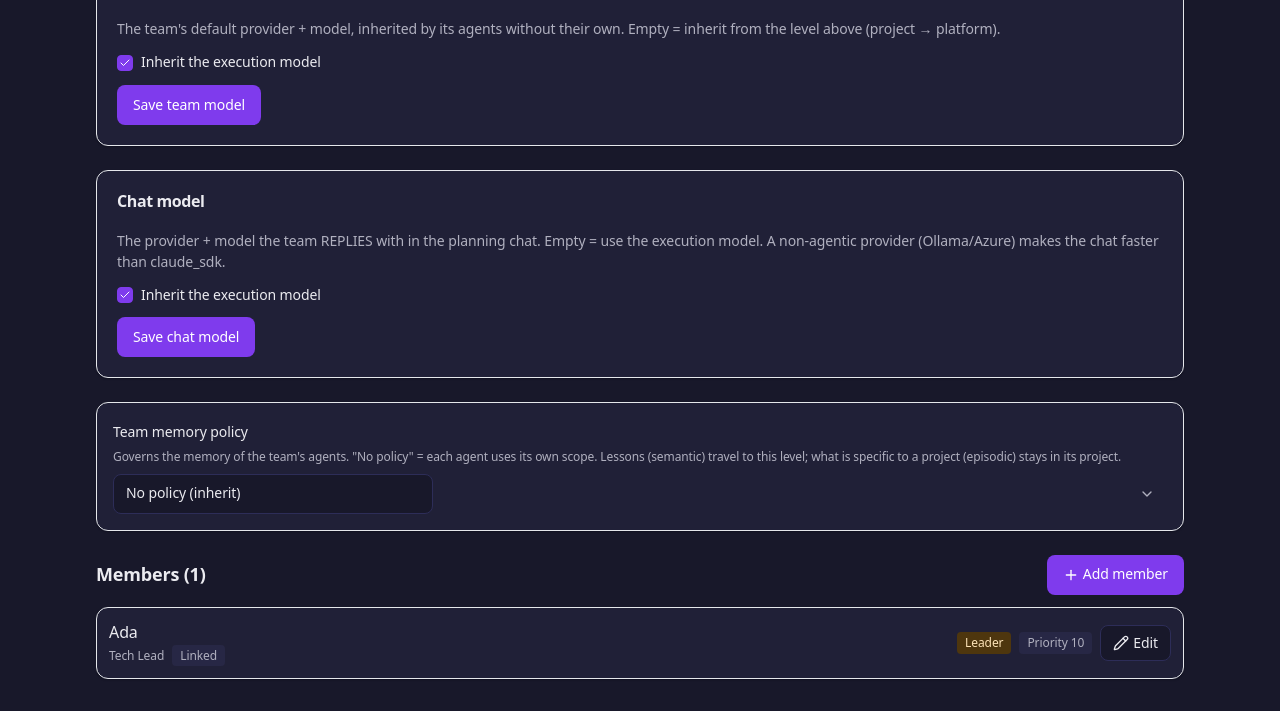
it: detalle del equipo › el diálogo de alta de miembro se traduce, incluidos los dos modos
(page scrolled)
Click the button with test id "add-member-button" at (1115, 575), box left=1047, top=555, right=1184, bottom=595
(page scrolled)
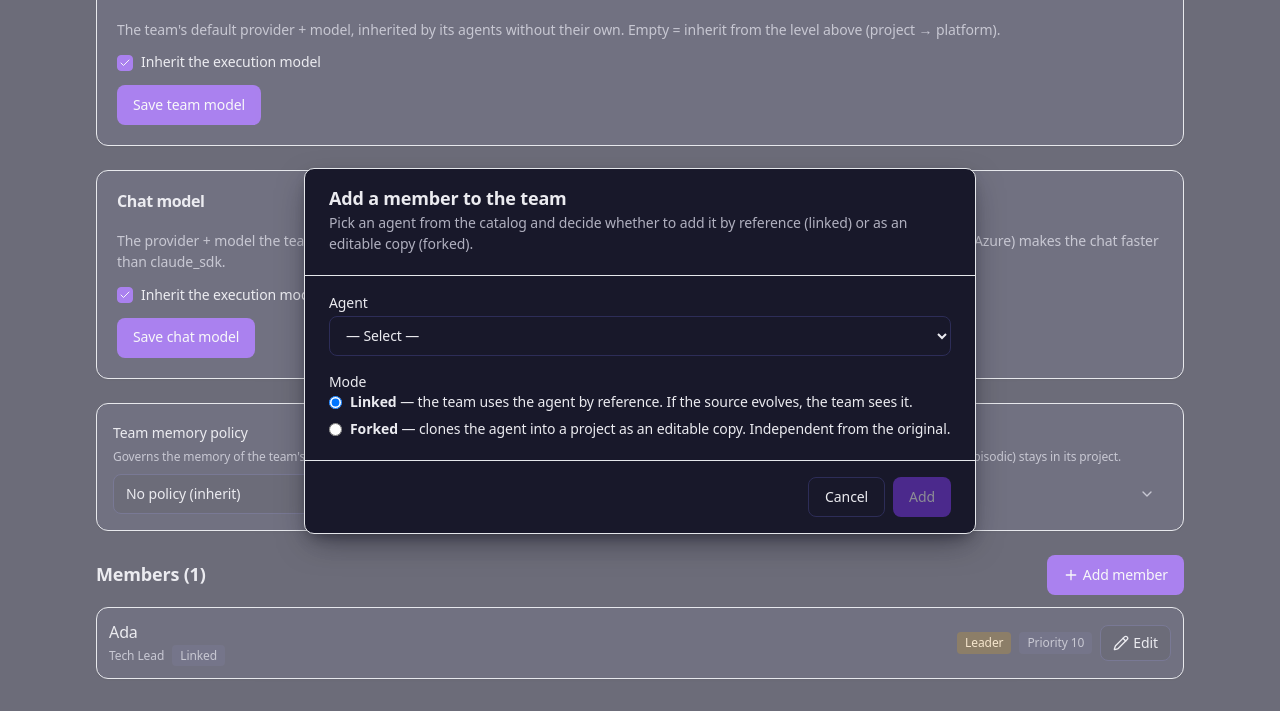
Now the heading "Add a member to the team" is shown, box left=329, top=186, right=567, bottom=210
Now the dropdown labelled "Agent" is shown, box left=329, top=316, right=951, bottom=356
Now the text "Mode" is shown, box left=329, top=372, right=366, bottom=392
